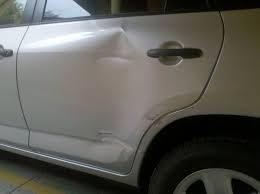Dent: (88, 25, 143, 66), (75, 128, 138, 162)
